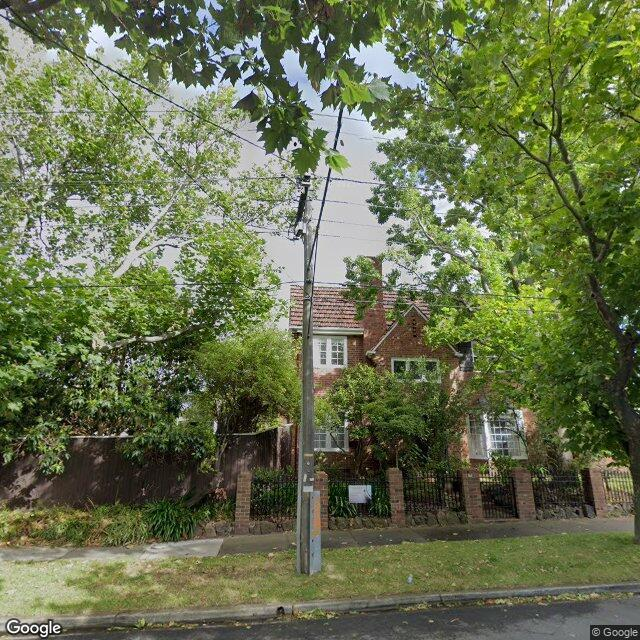crossarm: (294, 174, 310, 237)
streetlight: (306, 74, 348, 270)
timber-pole: (297, 195, 313, 575)
